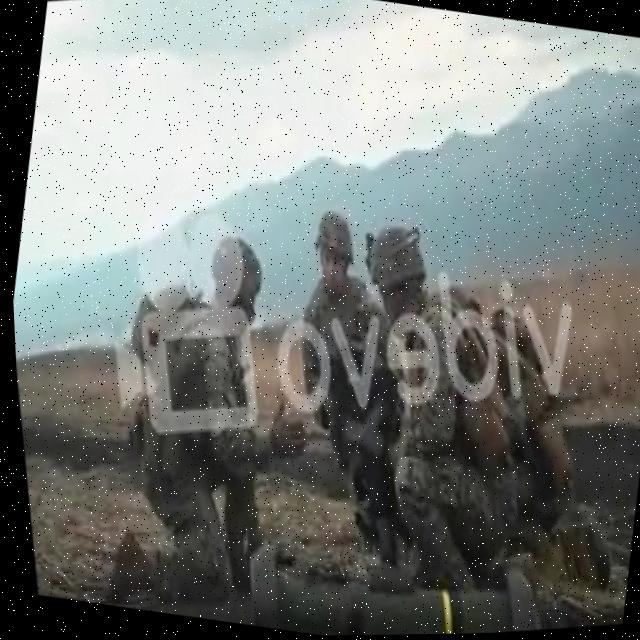rocket: (228, 485, 547, 638)
